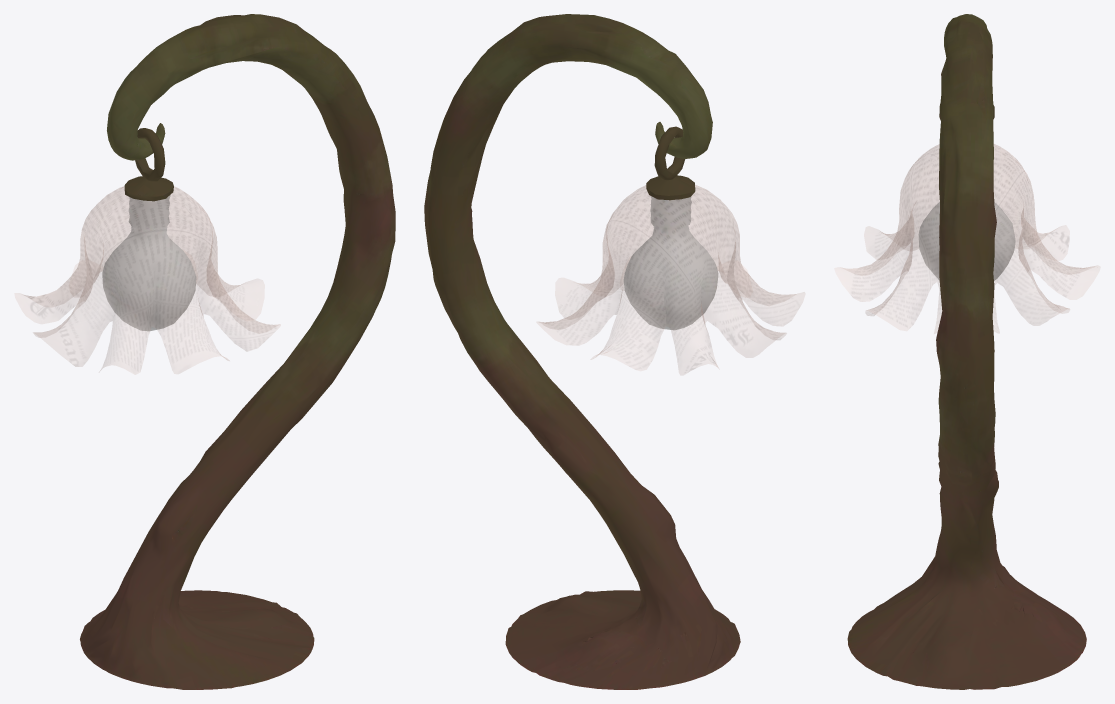
The model's file is LightsPunctualLamp.glb.
3 renders of one model, left to right at view 1: azimuth 30°, elevation 25°; view 2: azimuth 150°, elevation 25°; view 3: azimuth 270°, elevation 25°, orthographic.
Size of the model in its own units: 1.13 by 1.86 by 0.7216.
3 materials, 3 textured.
